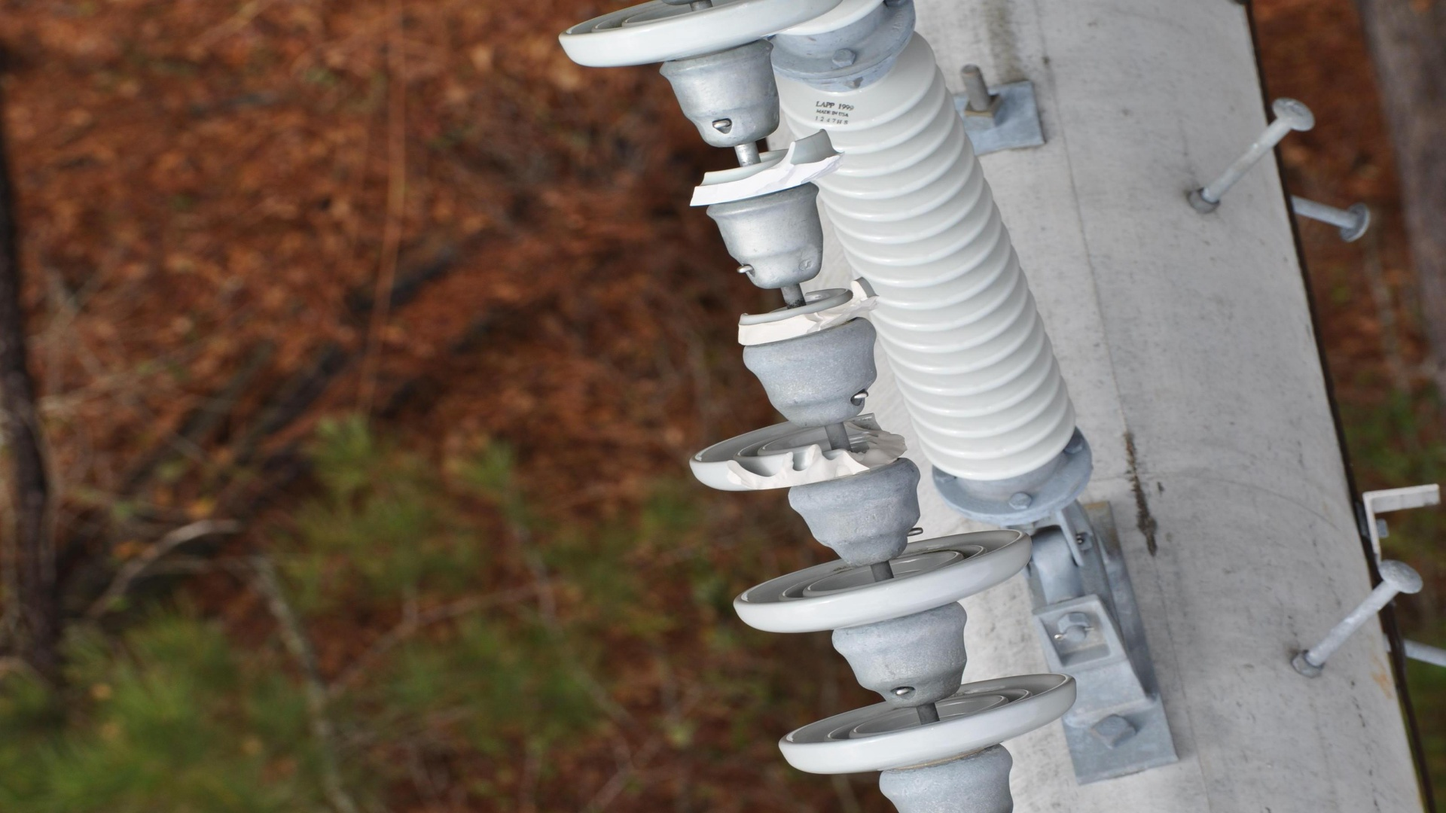insulator: (681, 414, 1084, 787), (766, 26, 1091, 488), (546, 1, 888, 355)
insulator_breakage: (718, 411, 912, 497), (685, 124, 845, 215), (731, 273, 883, 349)
